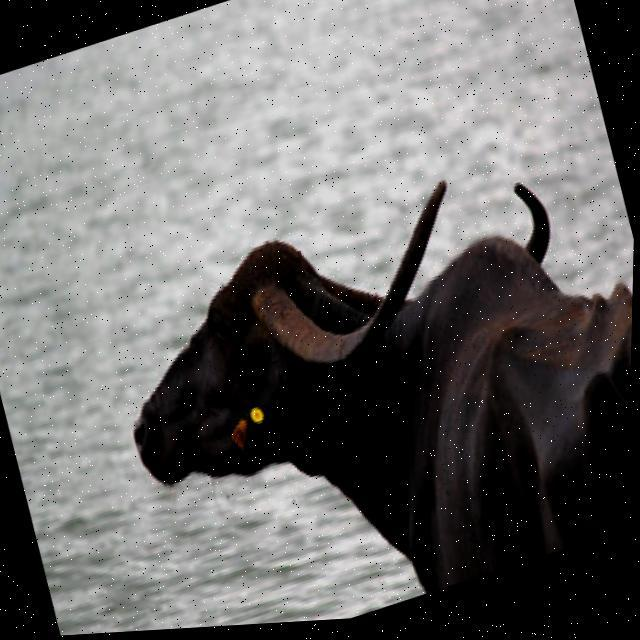Buffalo: (84, 117, 637, 634)
